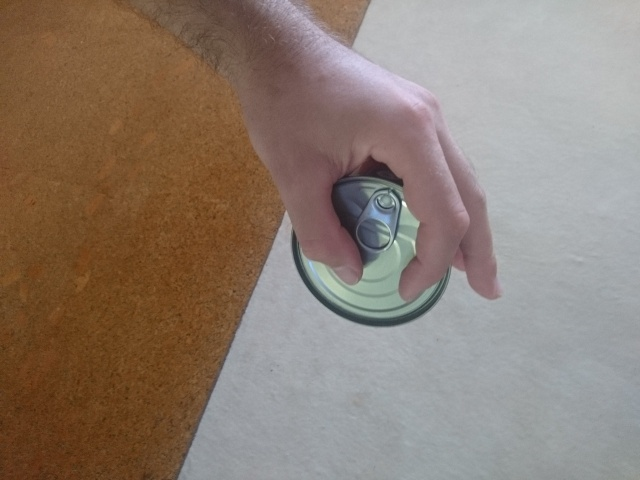Giana Tuna Salad Mexico 185g: (287, 137, 463, 330)
